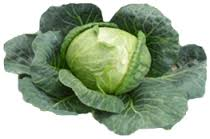cabbage: (63, 13, 160, 104)
